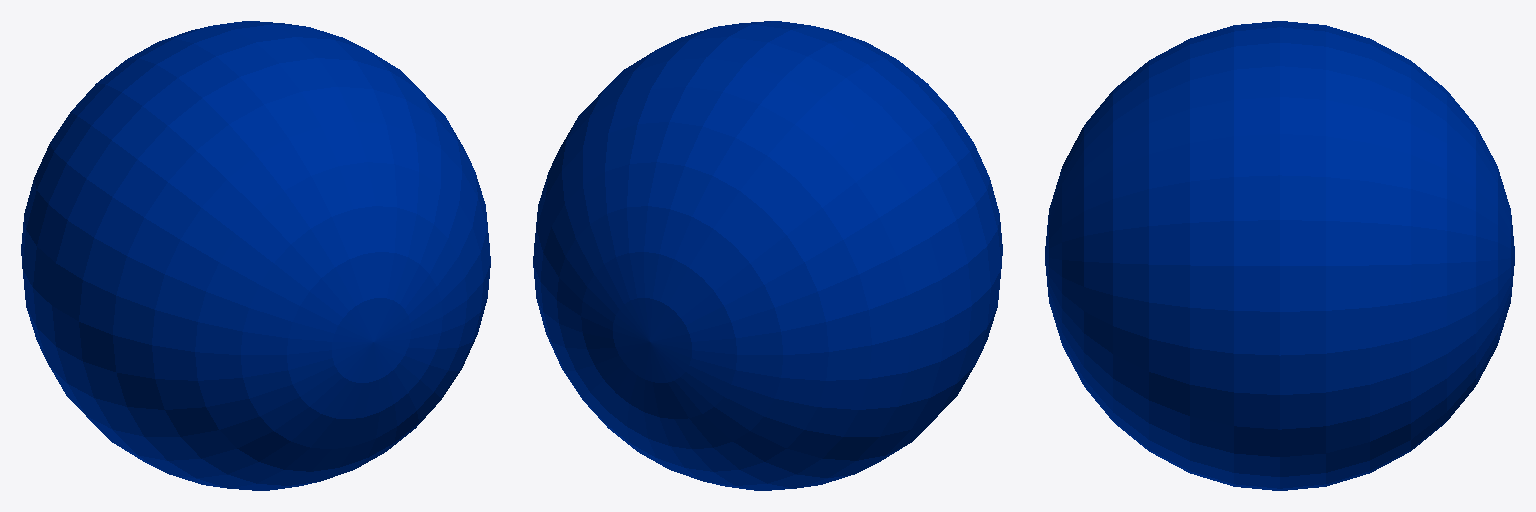
The model's file is TestSphere.obj.
The picture shows the model from 3 angles: view 1: azimuth 30°, elevation 25°; view 2: azimuth 150°, elevation 25°; view 3: azimuth 270°, elevation 25°; orthographic projection.
Visible parts, largest first — view 1: Sphere; view 2: Sphere; view 3: Sphere.
Boxes of the visible parts, x1=… form: Sphere: x1=21, y1=21, x2=490, y2=490; Sphere: x1=533, y1=21, x2=1002, y2=490; Sphere: x1=1045, y1=21, x2=1514, y2=490.
Bounding box in the file's own units: 8.11 × 8.11 × 8.11.